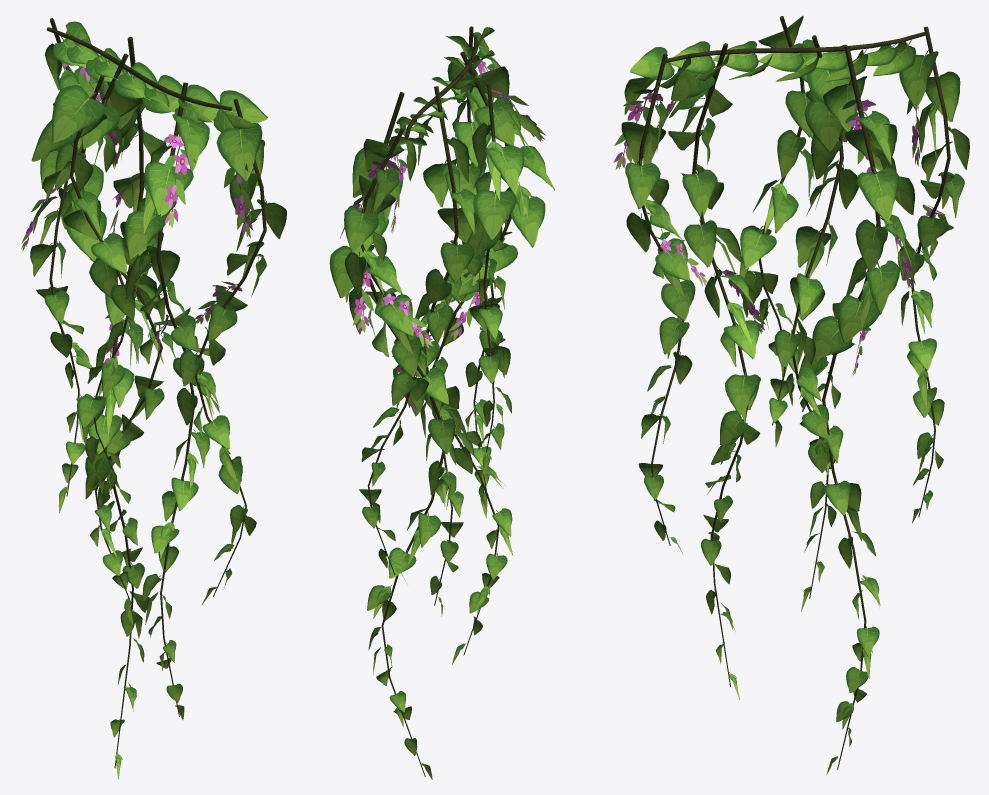
3 views of the same model, side by side, from view 1: azimuth 30°, elevation 25°; view 2: azimuth 150°, elevation 25°; view 3: azimuth 270°, elevation 25° (orthographic). The views are drawn at different scales.
Parts seen in each view (by area): view 1: Mesh_VineLeaves, Mesh_VineStems; view 2: Mesh_VineLeaves, Mesh_VineStems; view 3: Mesh_VineLeaves, Mesh_VineStems.
Part boxes in pixels (left/top/right/bottom): Mesh_VineLeaves: left=21, top=21, right=286, bottom=779; Mesh_VineStems: left=46, top=18, right=266, bottom=768; Mesh_VineLeaves: left=329, top=27, right=554, bottom=779; Mesh_VineStems: left=361, top=26, right=518, bottom=776; Mesh_VineLeaves: left=613, top=16, right=969, bottom=775; Mesh_VineStems: left=638, top=16, right=950, bottom=769.
Bounding box in the file's own units: 0.8611 × 3.56 × 1.65.
Materials: 2 (2 with a texture image).
